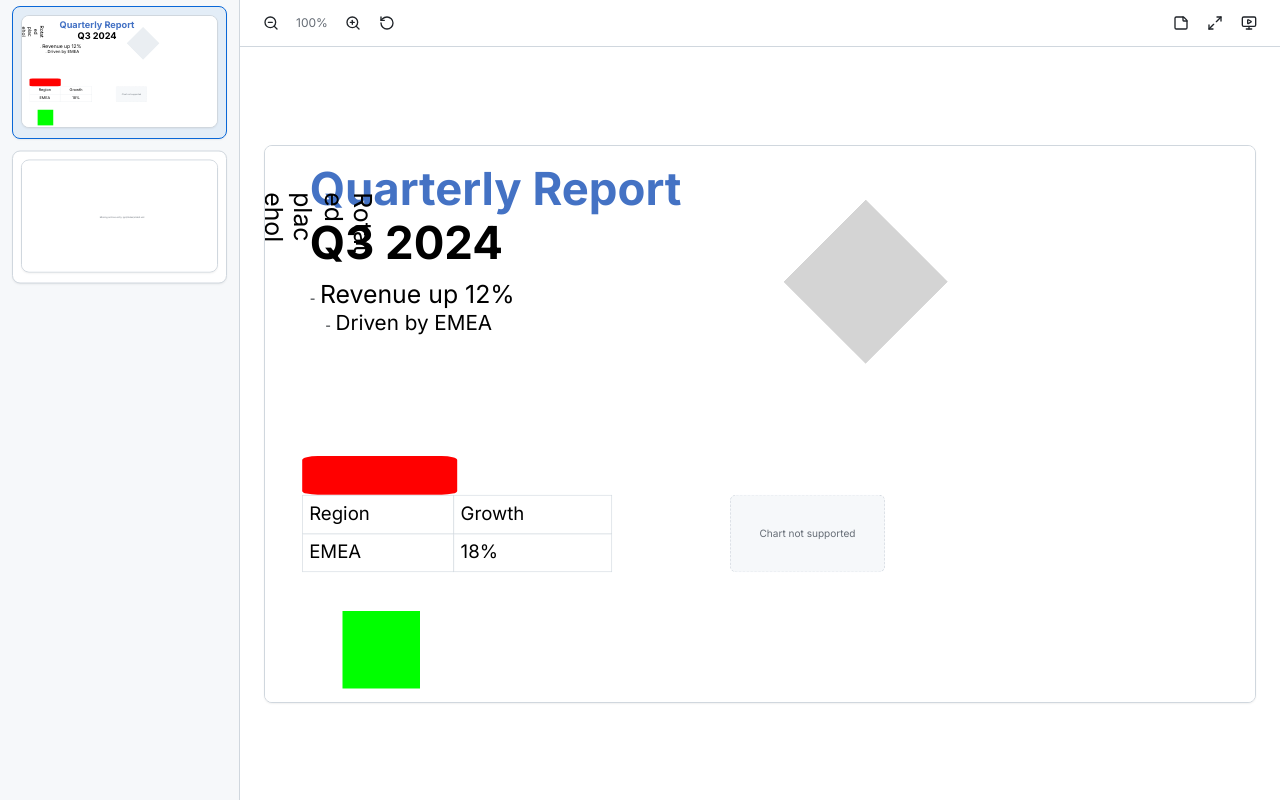
Test case: SlideDeck › S12 — the notes drawer toggles open/closed for a slide that has speaker notes
Expected: the text "Remember to mention EMEA growth drivers." is not shown
What coordinates should you click on to do the following:
click the button titled "Speaker notes"
I would click on:
 (1181, 23)
Its box is x1=1166 y1=8 x2=1196 y2=38.
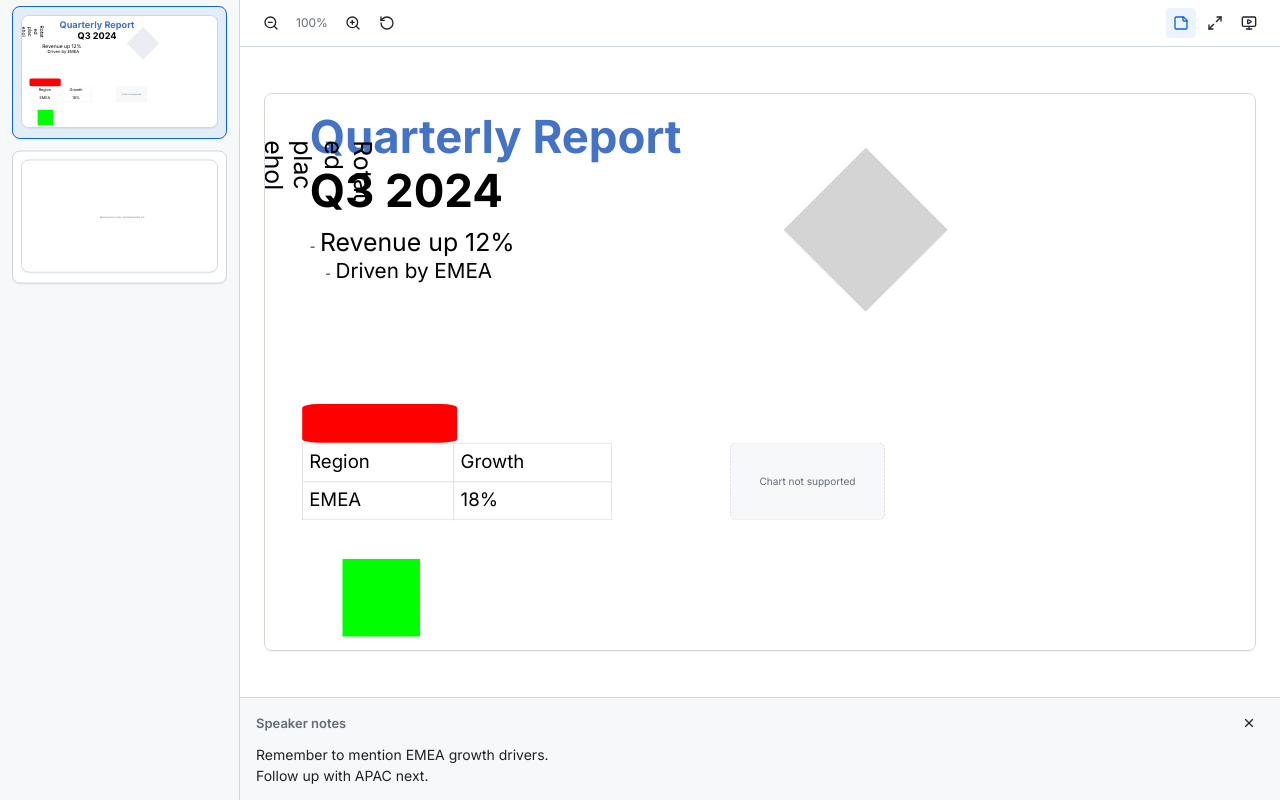
Expected: the text "Remember to mention EMEA growth drivers." is shown, x1=256 y1=746 x2=549 y2=784
What coordinates should you click on to do the following:
click the button titled "Close notes"
I would click on:
 (1249, 723)
Its box is x1=1234 y1=708 x2=1264 y2=738.
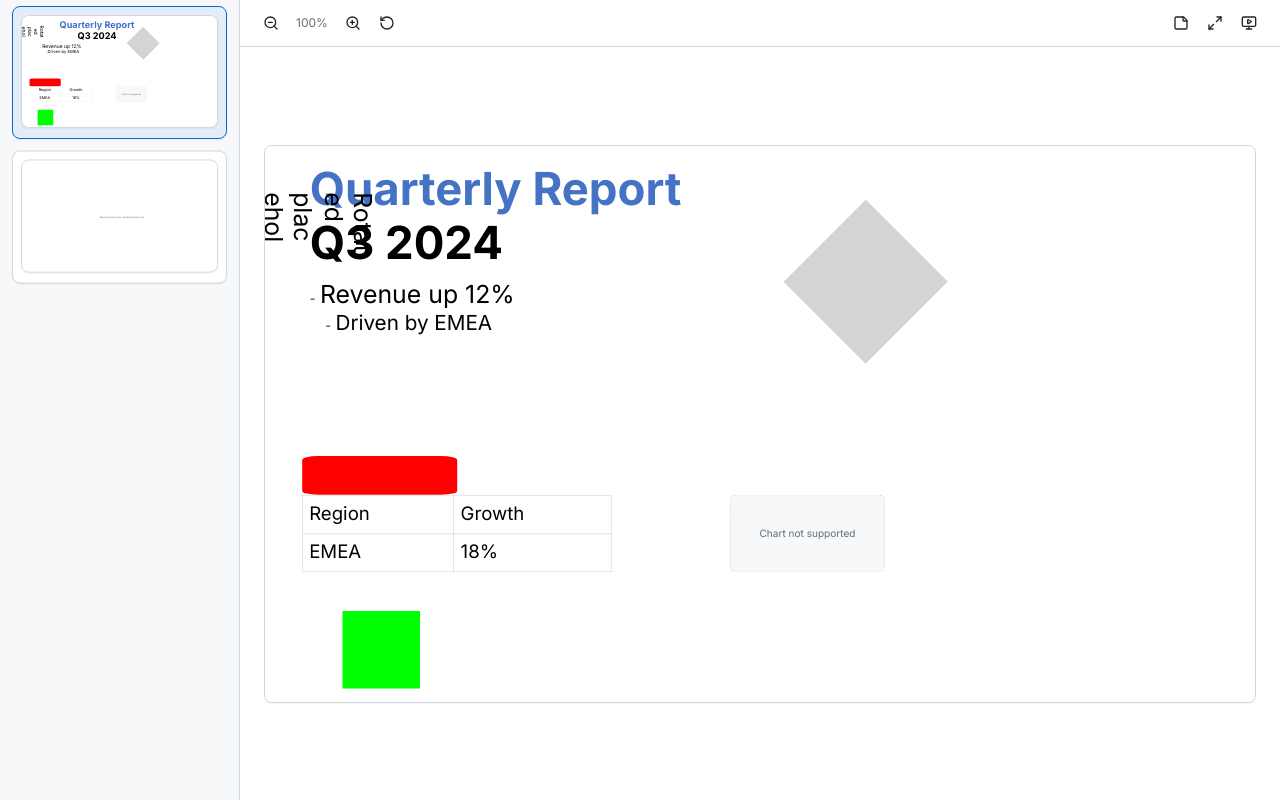
Expected: the text "Remember to mention EMEA growth drivers." is gone
